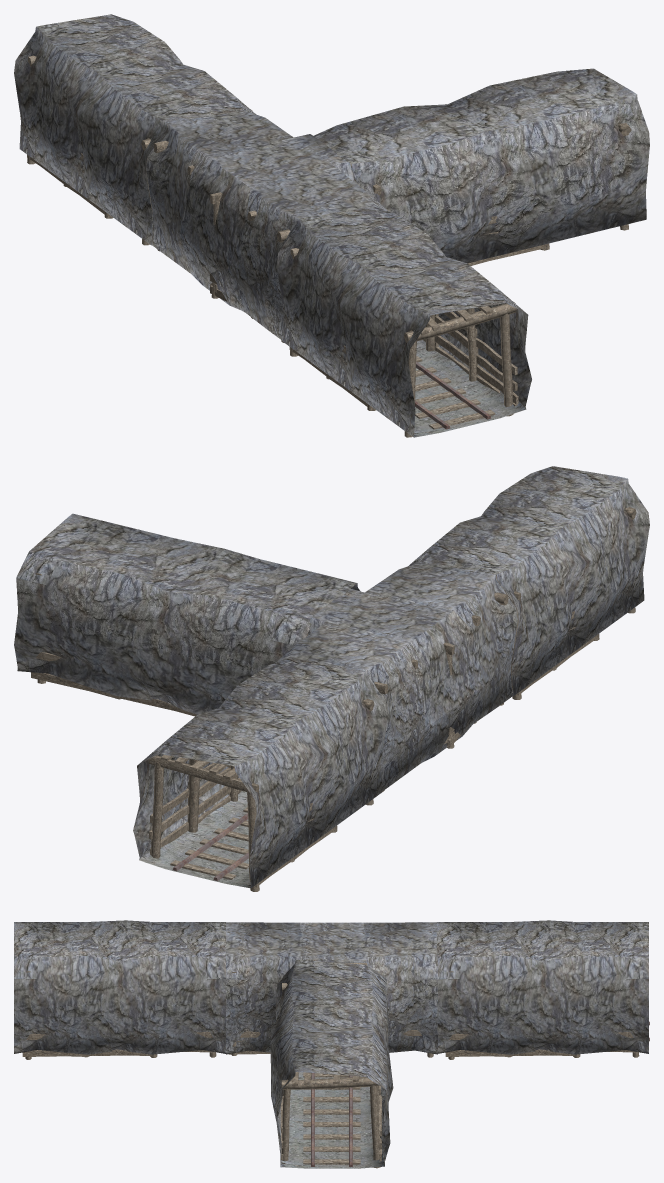
The model's file is Mine_006.fbx.
3 renders of one model, top to bottom at view 1: azimuth 30°, elevation 25°; view 2: azimuth 150°, elevation 25°; view 3: azimuth 270°, elevation 25°, orthographic. The views are drawn at different scales.
Parts seen in each view (by area): view 1: Mine_05.001; view 2: Mine_05.001; view 3: Mine_05.001.
Part boxes in pixels (x1,y1,x2,y2): Mine_05.001: (14, 14, 649, 437); Mine_05.001: (14, 466, 649, 891); Mine_05.001: (14, 920, 649, 1168).
Size of the model in its own units: 1196 by 359 by 2002.
